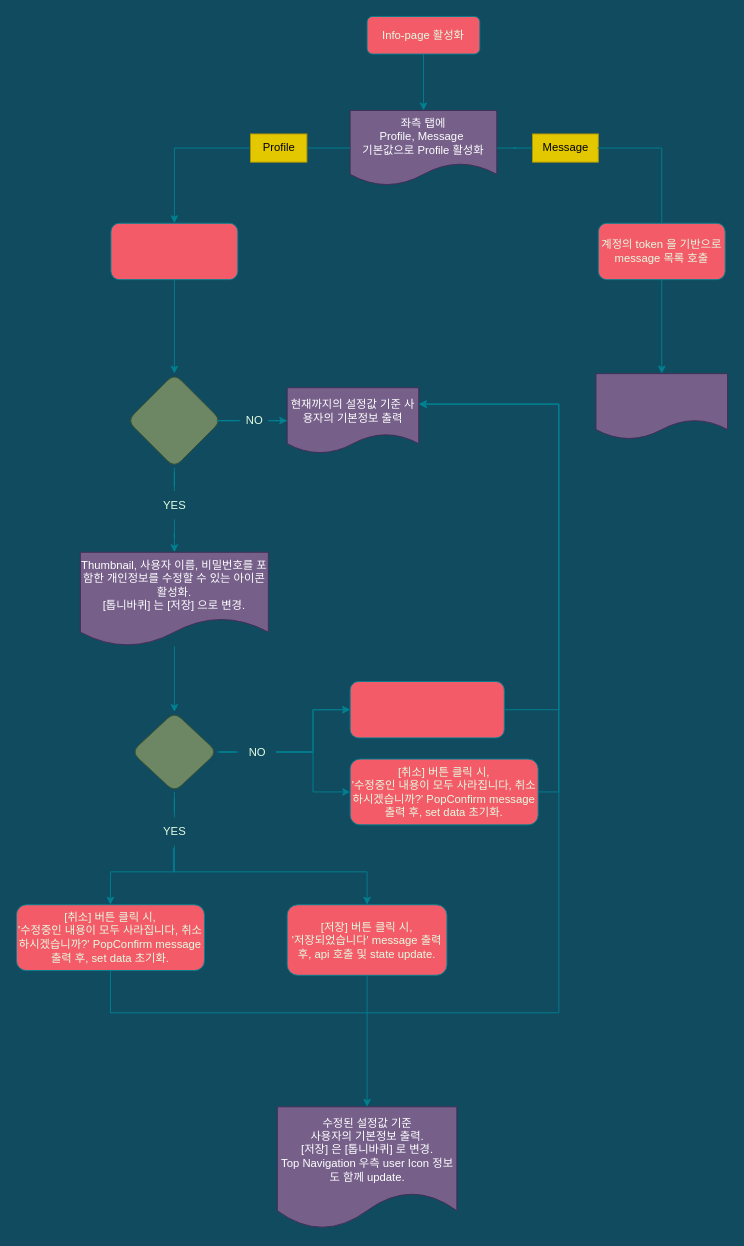
This 744x1246 diagram has some shape labels left out. Here are the shapes that lost their labels. From the top down, the centre of each, then its label:
the point at 174,251: 계정의 token 을 기반으로 사용자 정보 호출
the point at 173,420: [톱니바퀴] 아이콘 클릭유무
the point at 661,406: 사용자에게 수신된, 알람을 제외한 message 목록 출력
the point at 426,709: [저장] 버튼 클릭 시, '저장되었습니다' message 출력 후, api 호출 없이 reload.
the point at 174,751: 수정사항유무
